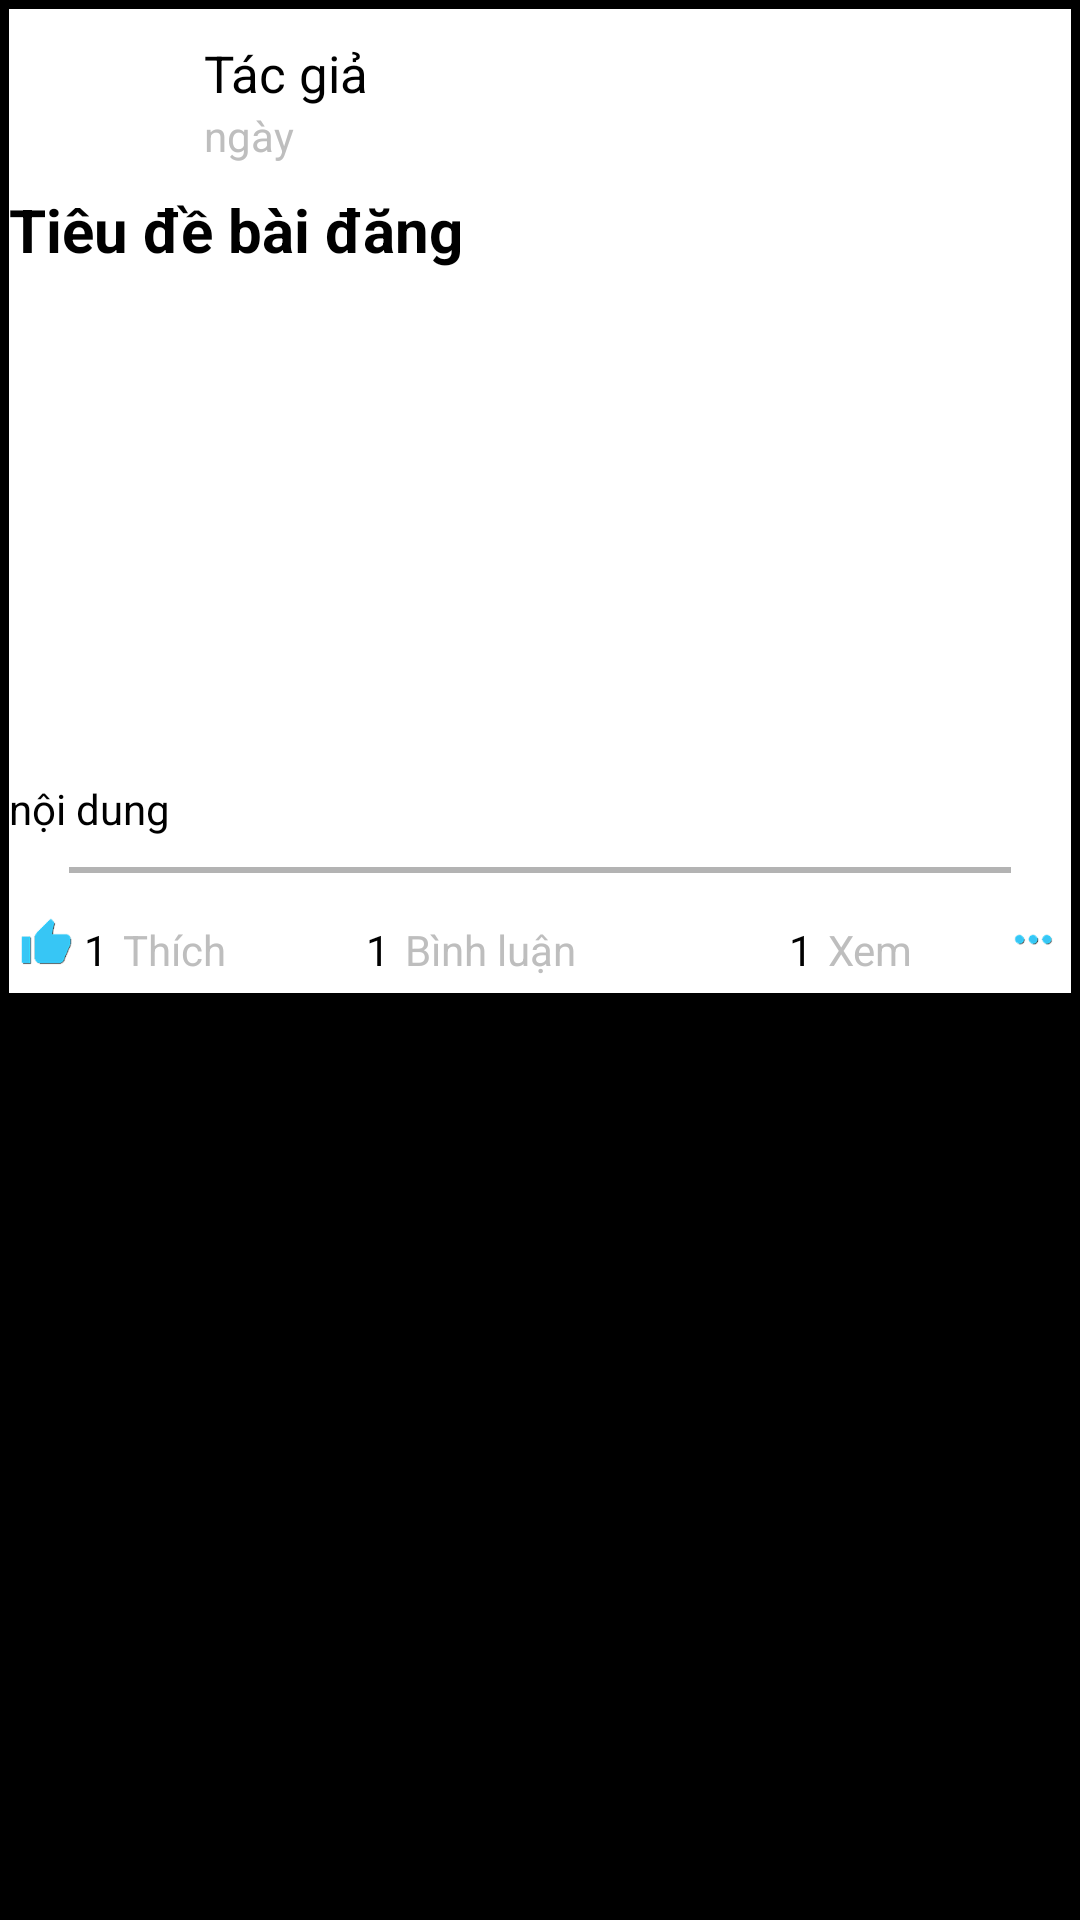

Icon click points for this 1080px×1920px phone screenshot, format point (x, y):
like: point (46, 941)
others option: point (1033, 939)
